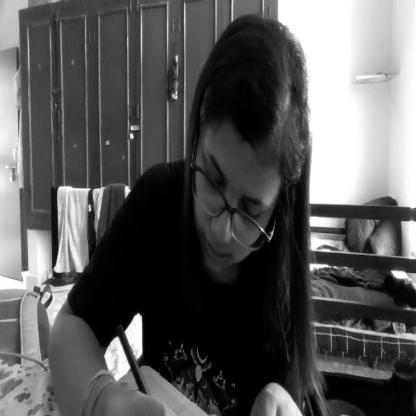Distracted: (193, 22, 312, 294)
